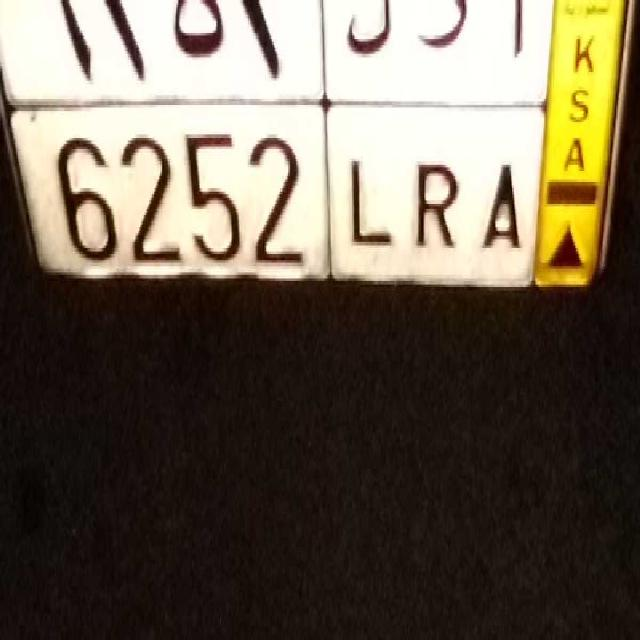license_plate: (47, 96, 530, 316)
